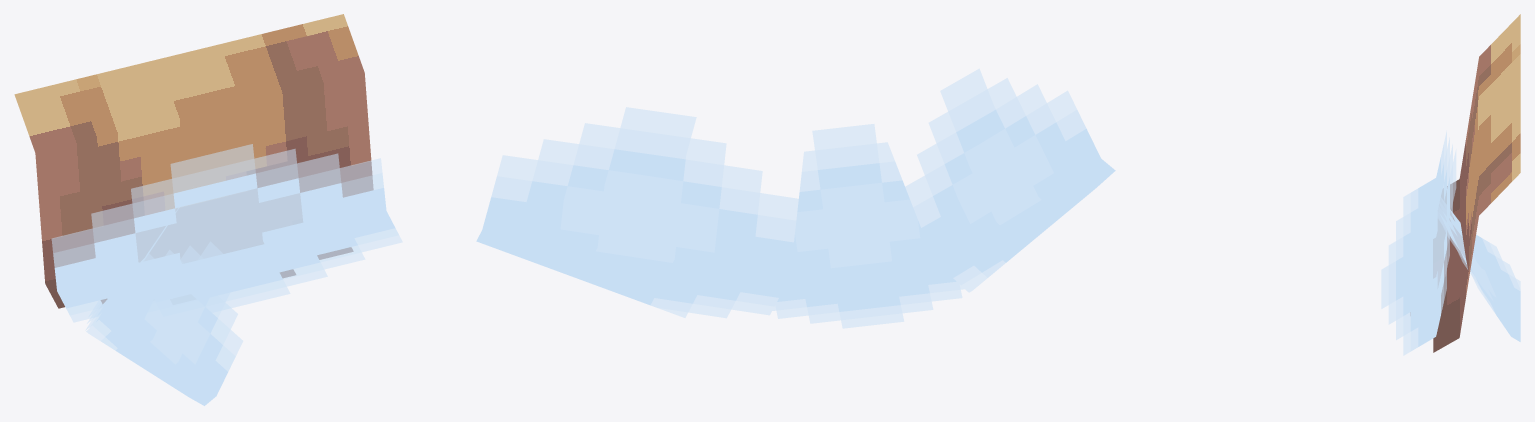
The picture shows the model from 3 angles, left to right: view 1: azimuth 30°, elevation 25°; view 2: azimuth 150°, elevation 25°; view 3: azimuth 270°, elevation 25°; orthographic projection. The views are drawn at different scales.
Size of the model in its own units: 1 by 0.6892 by 1.
Materials: 2 (2 with a texture image).
